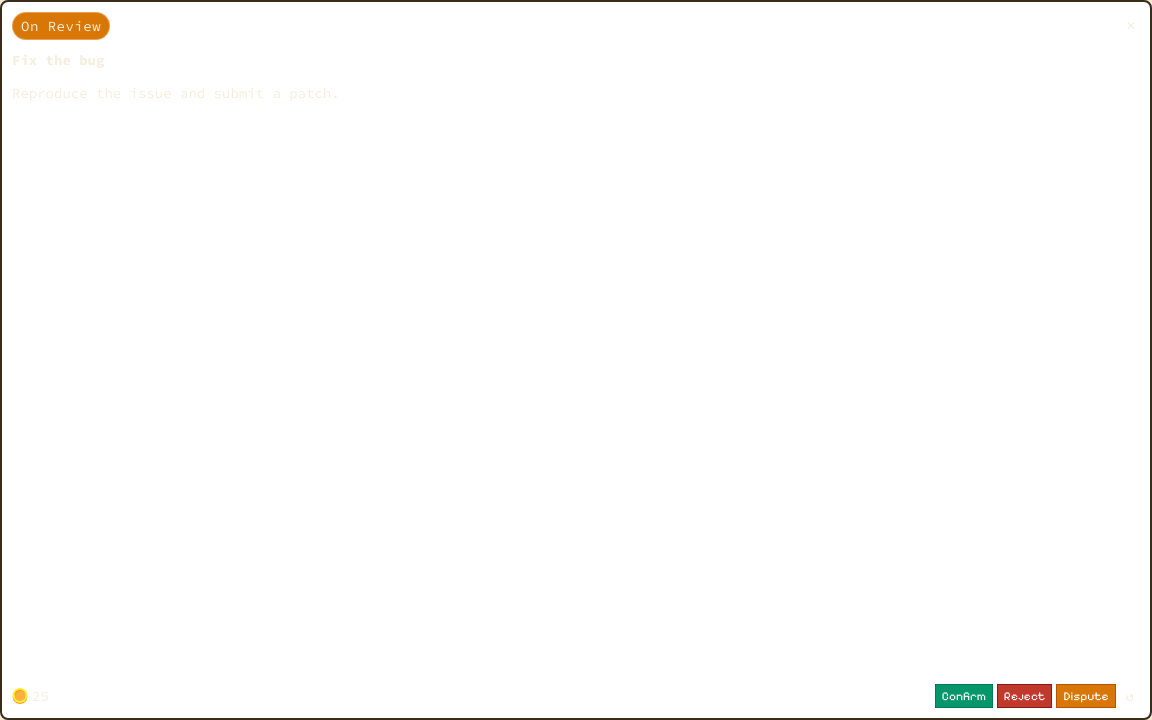
TaskCardFront › shows confirm review dialog when Confirm is clicked in creator view
Click the button "Confirm" at (964, 696), box [935,684,993,708]
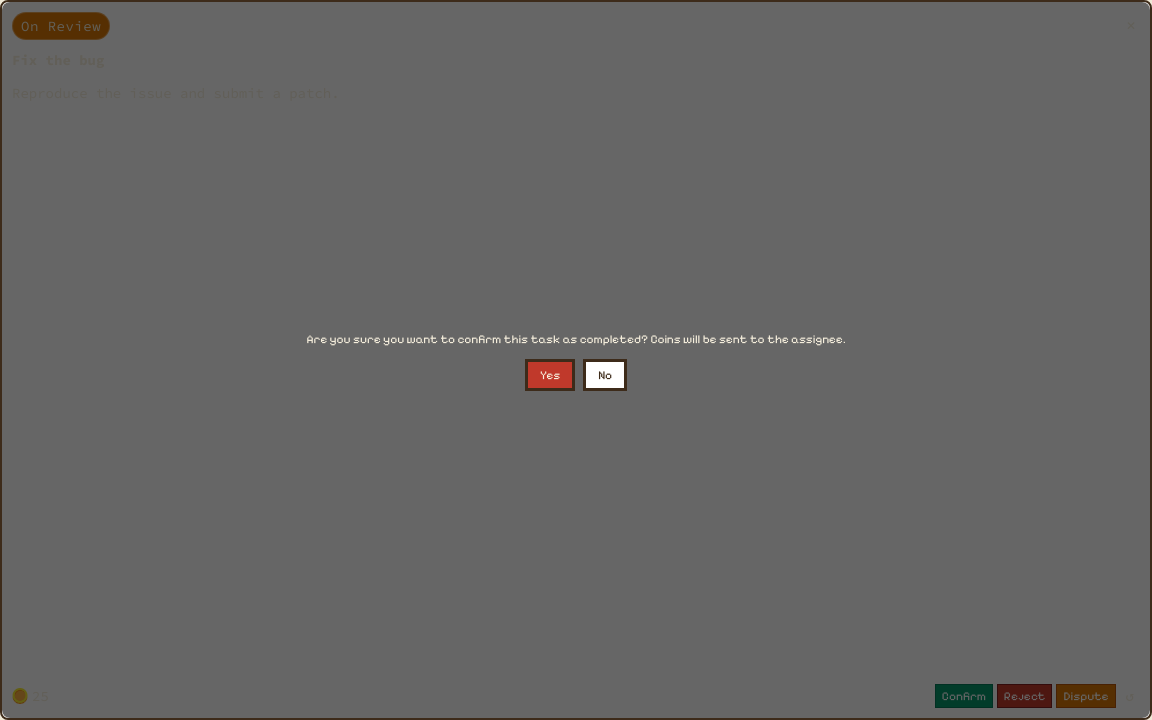
Check: the text "Are you sure you want to confirm this task" is shown, box [306,332,846,346]
